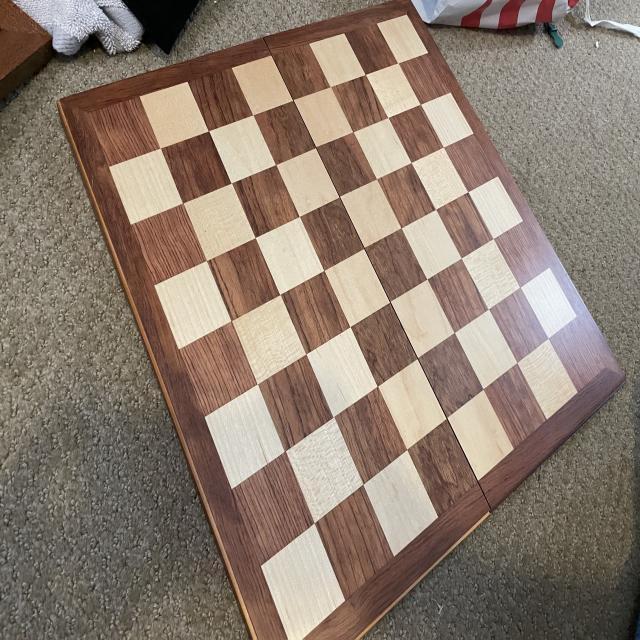chess-table-corners: (78, 100, 115, 140), (278, 611, 318, 640), (591, 342, 612, 390), (392, 8, 422, 40)
